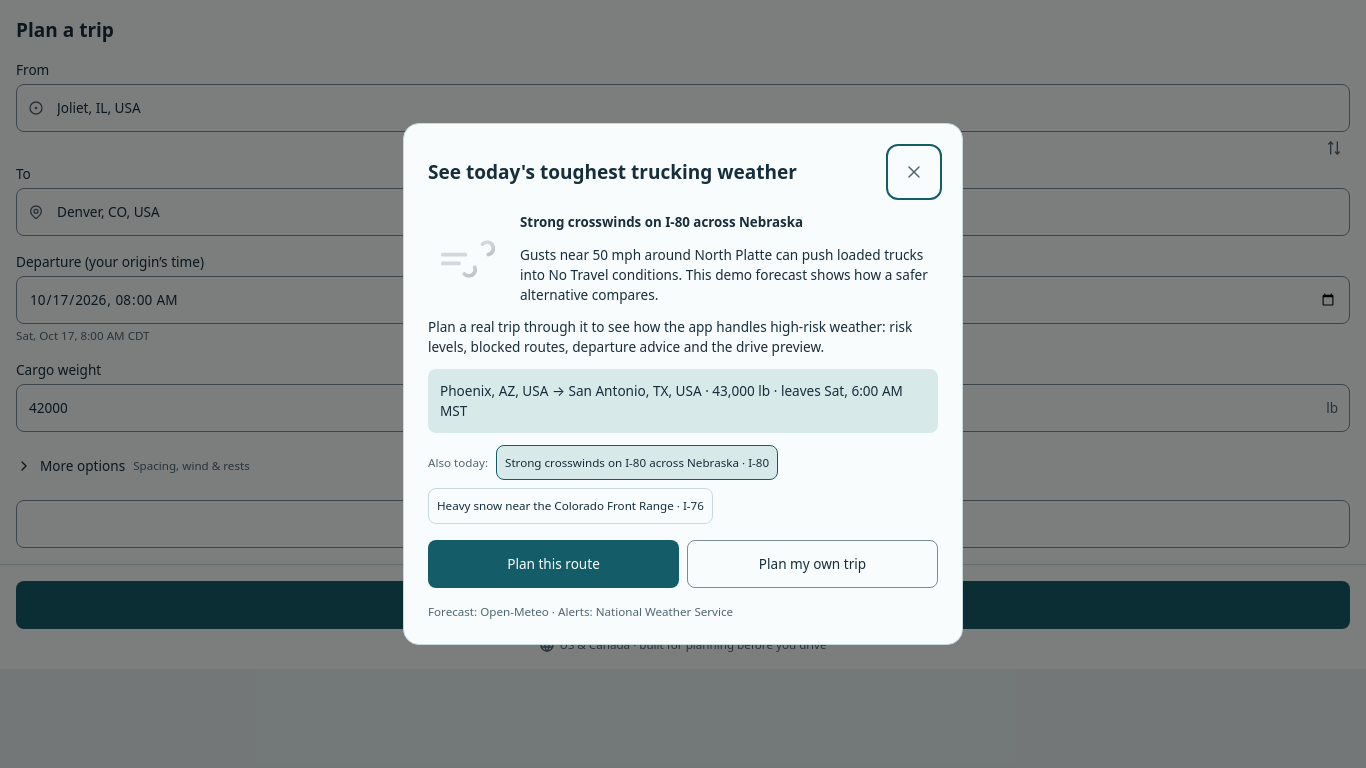
it: daily weather showcase › fills all four fields and submits the trip with existing planning defaults
Click the button "Plan this route". click: (554, 564)
box: left=428, top=540, right=679, bottom=588
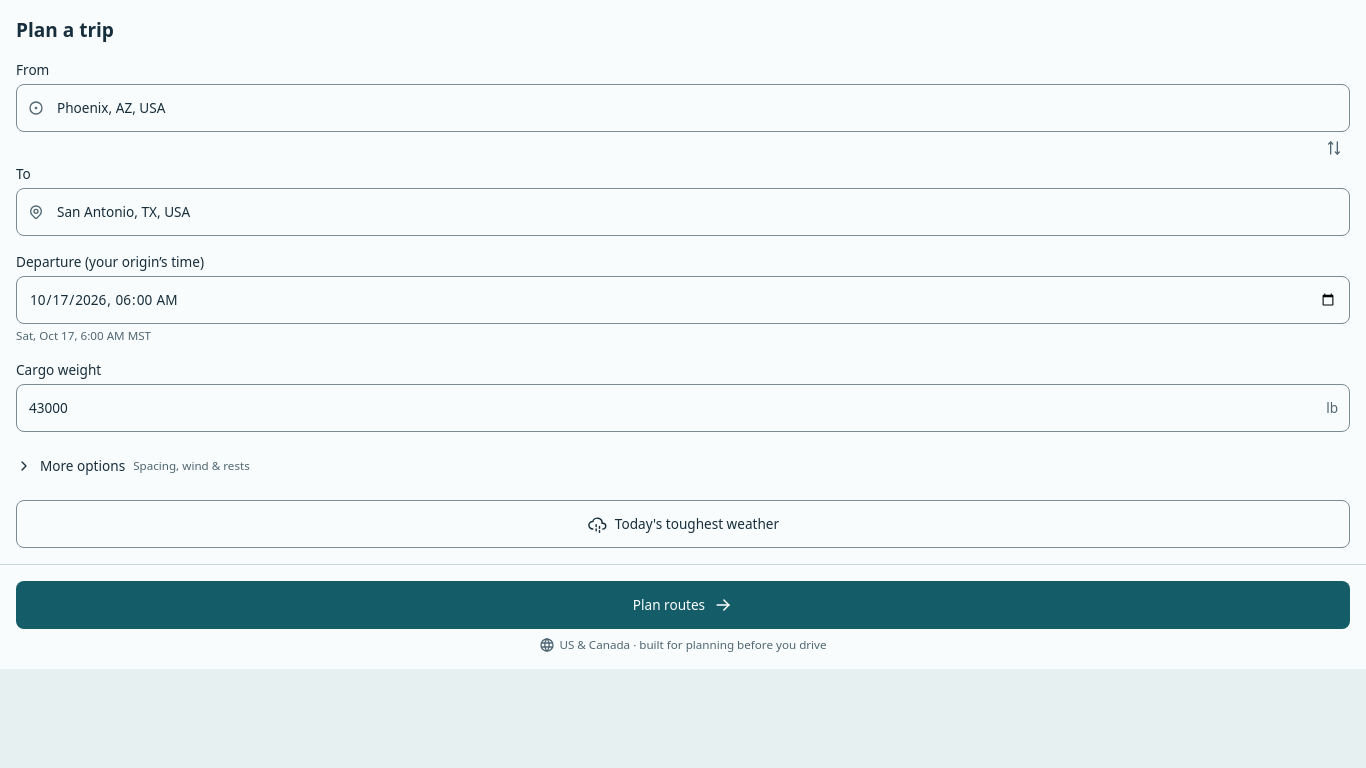
Expected: the dropdown labelled "From" holds "Phoenix, AZ, USA", left=16, top=84, right=1350, bottom=132
Expected: the dropdown labelled "To" holds "San Antonio, TX, USA", left=16, top=188, right=1350, bottom=236
Expected: the number field labelled "Cargo weight lb" holds "43000", left=16, top=384, right=1350, bottom=432
